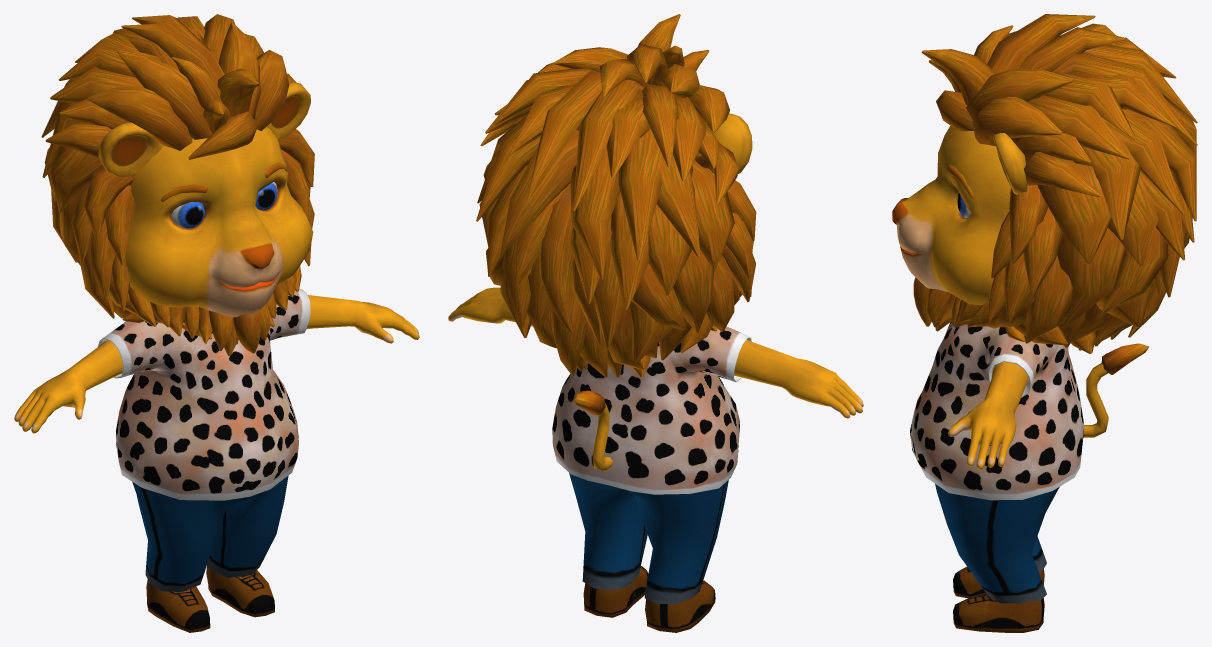
The model's file is Lion Character.fbx.
The picture shows the model from 3 angles, left to right: view 1: azimuth 30°, elevation 25°; view 2: azimuth 150°, elevation 25°; view 3: azimuth 270°, elevation 25°; orthographic projection. The views are drawn at different scales.
Parts seen in each view (by area): view 1: Cube.003; view 2: Cube.003; view 3: Cube.003.
Boxes of the visible parts, left/top/right/bottom form: Cube.003: left=14, top=14, right=419, bottom=632; Cube.003: left=448, top=14, right=863, bottom=632; Cube.003: left=892, top=14, right=1197, bottom=632.
Size of the model in its own units: 169 by 232 by 111.
